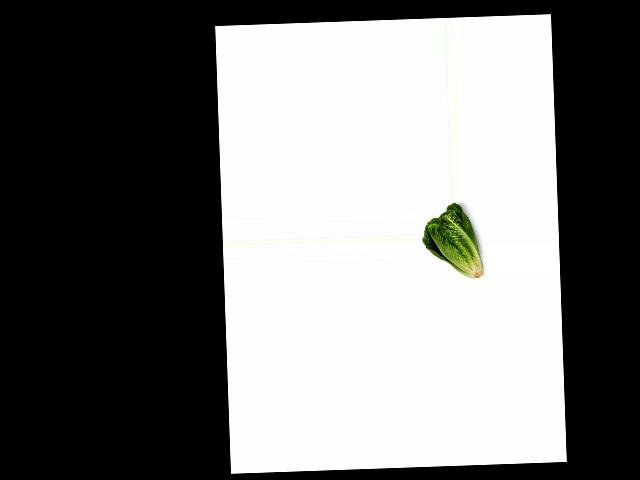lettuce: (421, 202, 484, 281)
